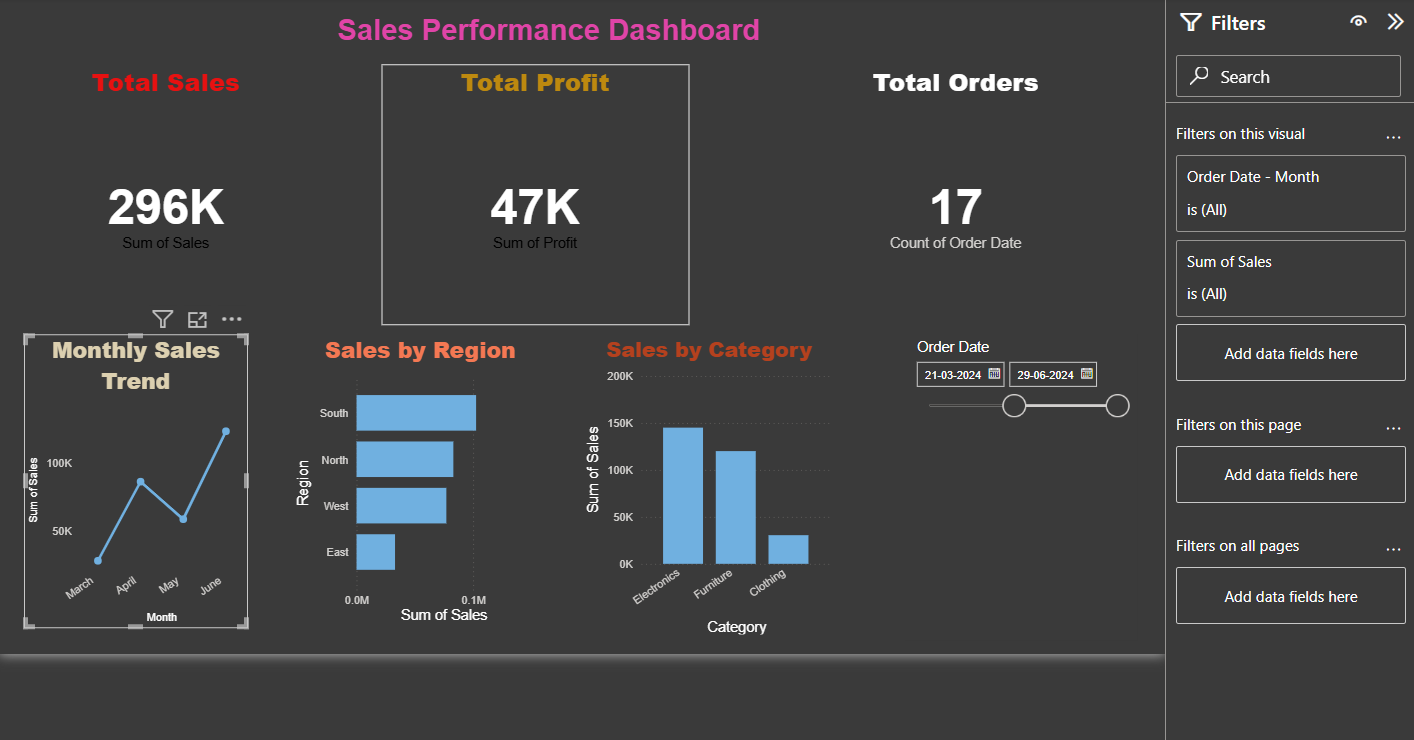

The page's visual inventory and layout, read from the dashboard file:
{"tool":"powerbi","page":{"name":"Page 1","canvas":[1280,720],"ordinal":0},"visuals":[{"type":"card","title":"Total Sales","fields":{"Values":["Sum(Sheet1.Sales)"]},"box":[27.4,72.7,311.5,286.8],"z":0},{"type":"card","title":"Total Profit","fields":{"Values":["Sum(Sheet1.Profit)"]},"box":[419.9,72.7,337.6,286.8],"z":1},{"type":"card","title":"Total Orders","fields":{"Values":["CountNonNull(Sheet1.Order Date)"]},"box":[891.9,72.7,317,286.8],"z":2},{"type":"lineChart","title":"Monthly Sales Trend","fields":{"Category":["Sheet1.Order Date.Variation.Date Hierarchy.Month"],"Y":["Sum(Sheet1.Sales)"]},"box":[27.4,369.1,245.6,322.5],"z":3},{"type":"clusteredBarChart","title":"Sales by Region","fields":{"Category":["Sheet1.Region"],"Y":["Sum(Sheet1.Sales)"]},"box":[321.1,369.1,282.7,322.5],"z":4},{"type":"clusteredColumnChart","title":"Sales by Category","fields":{"Category":["Sheet1.Category"],"Y":["Sum(Sheet1.Sales)"]},"box":[639.5,369.1,279.9,334.8],"z":5},{"type":"slicer","fields":{"Values":["Sheet1.Order Date"]},"box":[994.9,369.1,253.9,334.8],"z":6},{"type":"textbox","box":[241.5,12.3,724.5,60.4],"z":7}]}

Visuals, with their boxes on the page's 1280x720 design canvas (x1, y1, x2, y2). These are canvas units, not pixel positions in the 1414x740 screenshot, which may show the page scaled, cropped or inside an application window:
"Total Sales" card: <region>27, 73, 339, 360</region>
"Total Profit" card: <region>420, 73, 758, 360</region>
"Total Orders" card: <region>892, 73, 1209, 360</region>
"Monthly Sales Trend" lineChart: <region>27, 369, 273, 692</region>
"Sales by Region" clusteredBarChart: <region>321, 369, 604, 692</region>
"Sales by Category" clusteredColumnChart: <region>640, 369, 919, 704</region>
slicer - Sheet1.Order Date: <region>995, 369, 1249, 704</region>
textbox: <region>242, 12, 966, 73</region>
